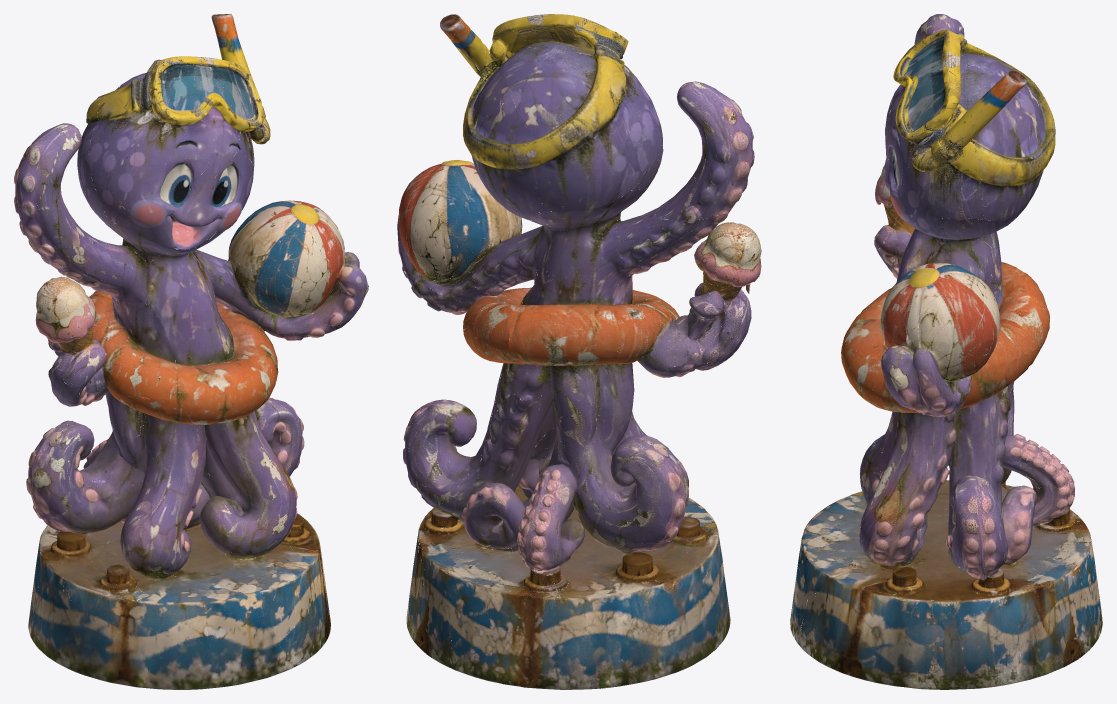
File: statua_polpo_B.glb
3 views of the same model, side by side, from view 1: azimuth 30°, elevation 25°; view 2: azimuth 150°, elevation 25°; view 3: azimuth 270°, elevation 25° (orthographic). The views are drawn at different scales.
Visible parts, largest first — view 1: statua_polpo_B; view 2: statua_polpo_B; view 3: statua_polpo_B.
Boxes of the visible parts, <box> form: statua_polpo_B: <box>14,14,368,689</box>; statua_polpo_B: <box>397,14,761,689</box>; statua_polpo_B: <box>790,14,1102,689</box>.
Size of the model in its own units: 1.41 by 2.3 by 1.11.
Materials: 1 (1 with a texture image).
